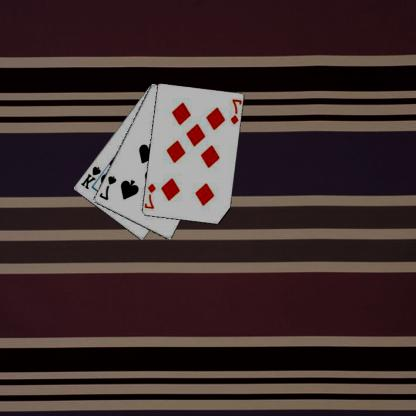7D: (145, 181, 158, 210), (230, 97, 242, 126)
7S: (98, 173, 119, 201)
KS: (80, 164, 103, 190)
